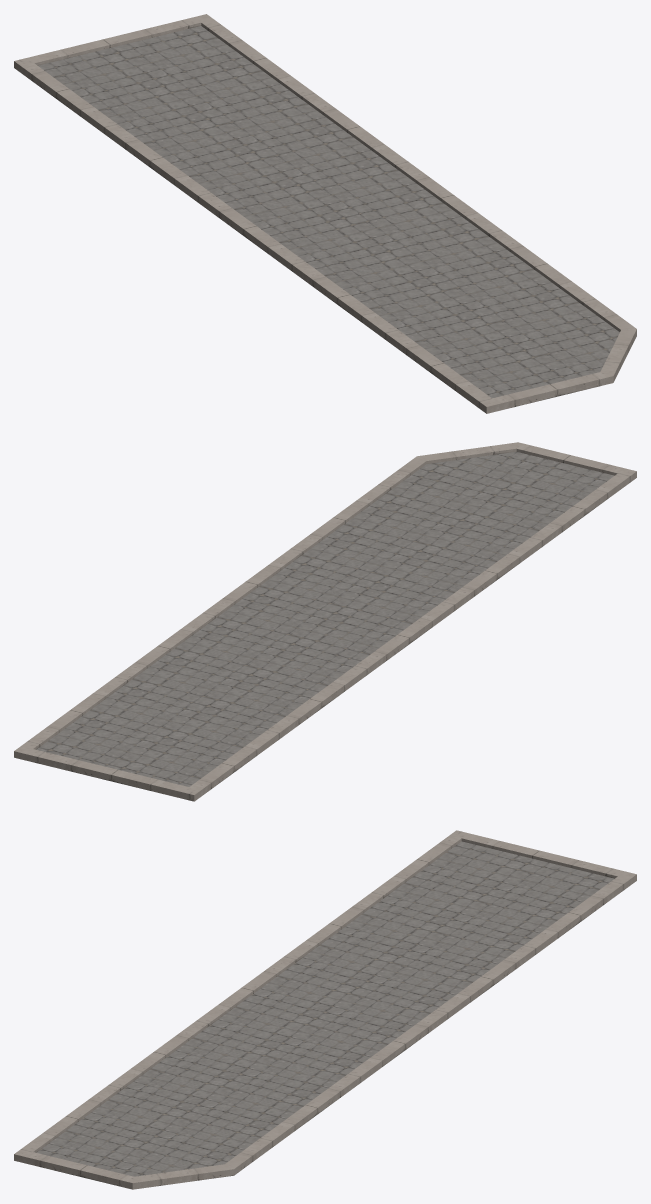
Rendered from TownGroundTile_T.fbx.
The picture shows the model from 3 angles, top to bottom: view 1: azimuth 30°, elevation 25°; view 2: azimuth 150°, elevation 25°; view 3: azimuth 330°, elevation 25°; orthographic projection. The views are drawn at different scales.
Visible parts, largest first — view 1: TownGroundTile_T; view 2: TownGroundTile_T; view 3: TownGroundTile_T.
Boxes of the visible parts, x1=… form: TownGroundTile_T: x1=14, y1=14, x2=636, y2=413; TownGroundTile_T: x1=14, y1=442, x2=636, y2=801; TownGroundTile_T: x1=14, y1=830, x2=636, y2=1189.
Size of the model in its own units: 737 by 25.35 by 3131.
Materials: 2 (2 with a texture image).
